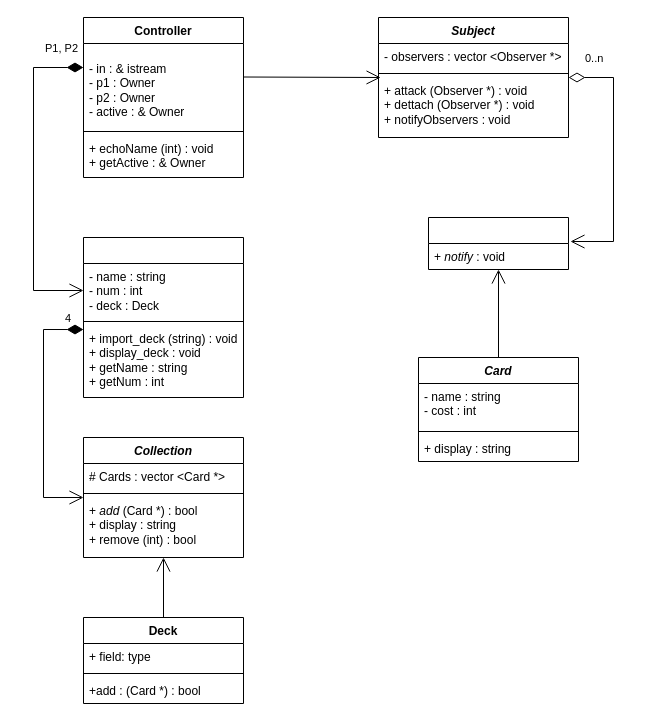
The diagram is 648 pixels wide and 724 high, and some of its shapes have lost their labels. Here are the shapes that lost their labels. From the top down, the box of each, then its label:
(428, 216, 568, 270): Observer
(82, 236, 244, 398): Owner
